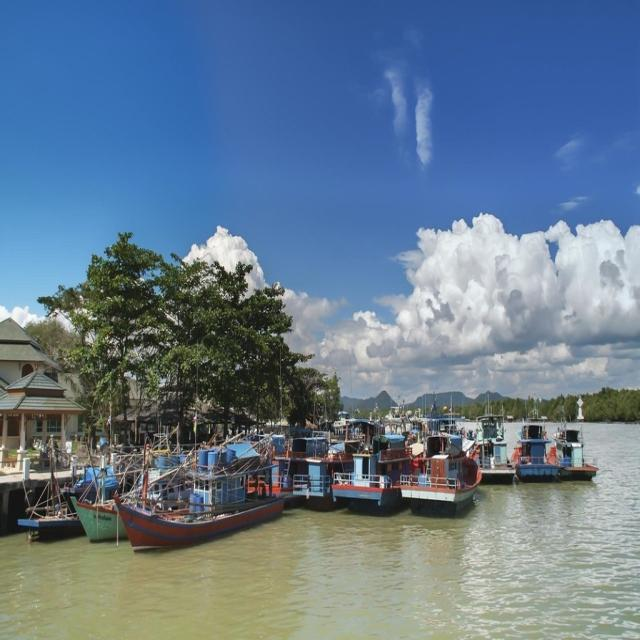boat: (115, 469, 290, 551), (326, 430, 400, 518), (410, 441, 483, 516), (460, 413, 519, 486), (510, 414, 556, 490), (556, 430, 609, 486)
